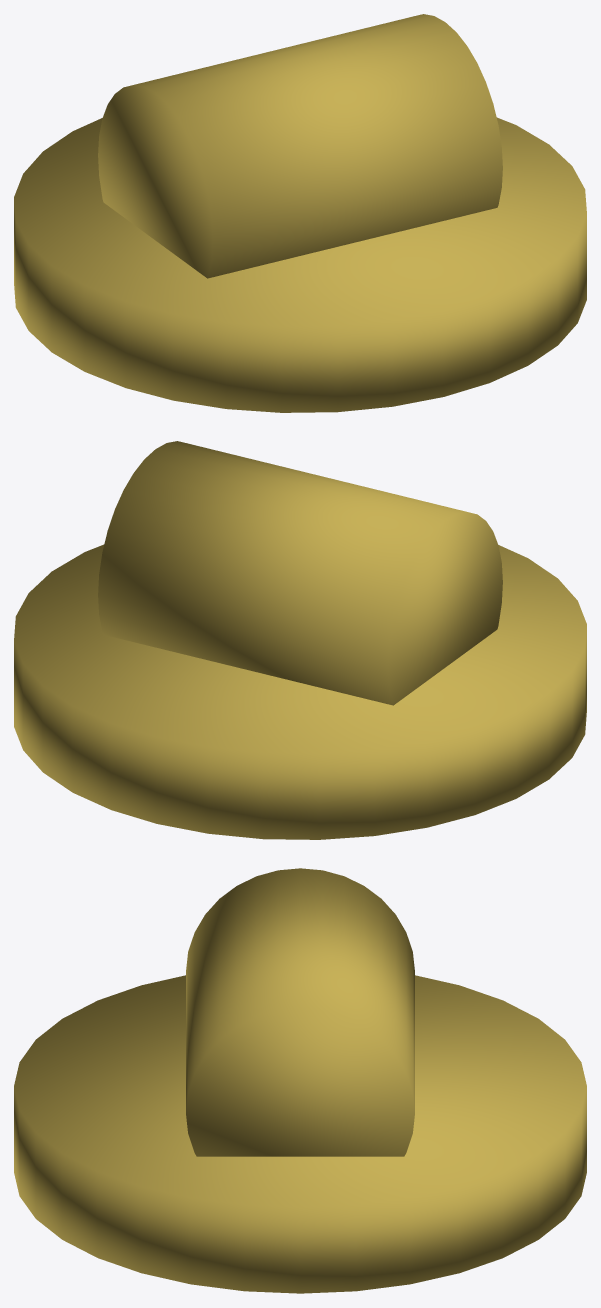
File: pelts.glb
3 views of the same model, one above another, from view 1: azimuth 30°, elevation 25°; view 2: azimuth 150°, elevation 25°; view 3: azimuth 270°, elevation 25° (orthographic).
Visible parts, largest first — view 1: Pelts, PeltsRoll; view 2: Pelts, PeltsRoll; view 3: Pelts, PeltsRoll.
Part boxes in pixels (x1,y1,x2,y2): Pelts: (14,117,586,412); PeltsRoll: (98,14,502,278); Pelts: (14,544,586,839); PeltsRoll: (98,441,502,705); Pelts: (14,975,586,1293); PeltsRoll: (186,868,414,1156).
Bounding box in the file's own units: 0.6 × 0.2701 × 0.6.
